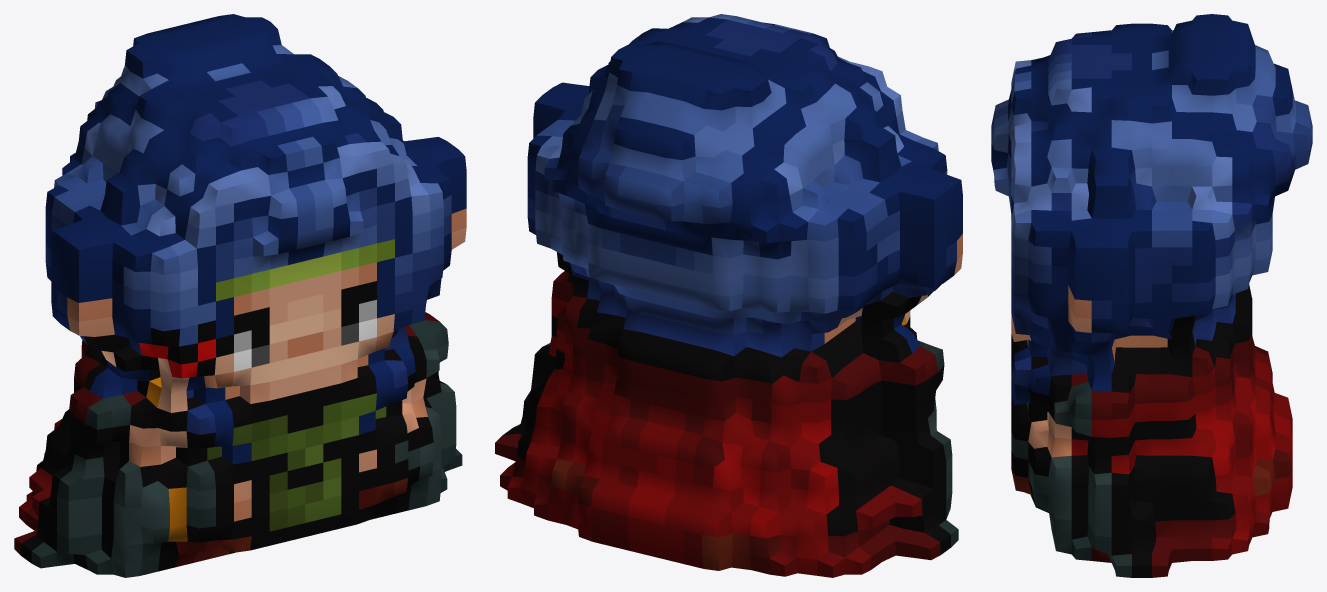
Rendered from Icon_114_03.obj.
The picture shows the model from 3 angles, left to right: view 1: azimuth 30°, elevation 25°; view 2: azimuth 150°, elevation 25°; view 3: azimuth 270°, elevation 25°; orthographic projection. The views are drawn at different scales.
Size of the model in its own units: 2.37 by 2.4 by 1.6.
1 material, 1 textured.
